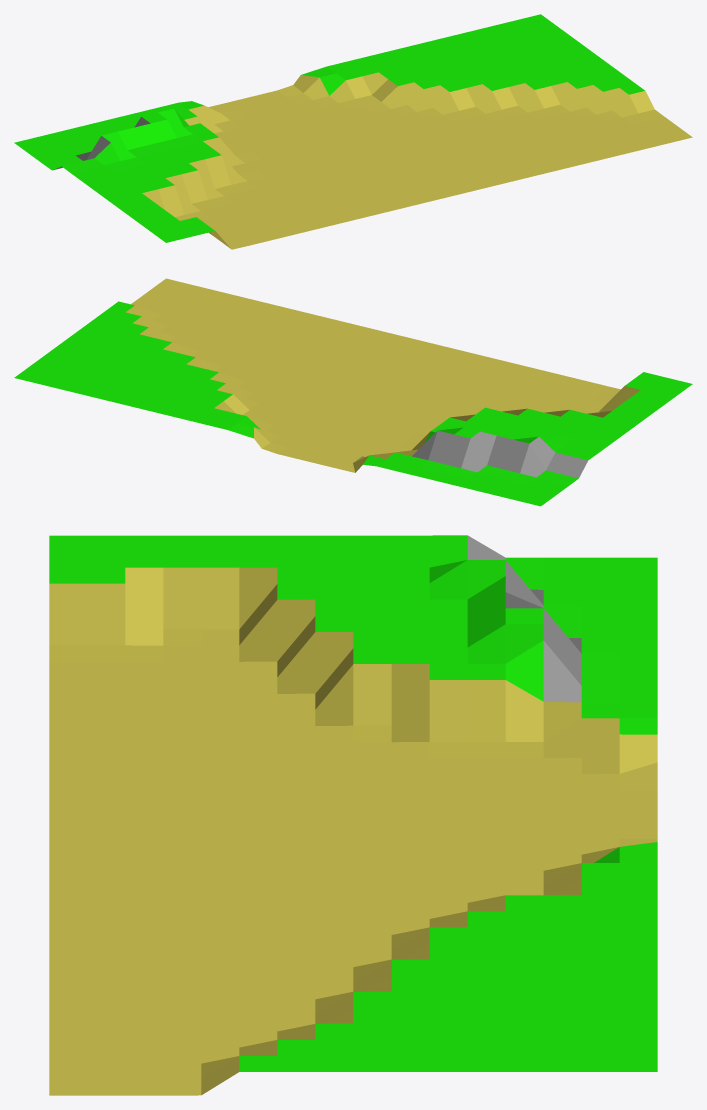
File: Terrain_Extension.fbx
The picture shows the model from 3 angles, top to bottom: view 1: azimuth 30°, elevation 25°; view 2: azimuth 150°, elevation 25°; view 3: azimuth 270°, elevation 25°; orthographic projection. The views are drawn at different scales.
Visible parts, largest first — view 1: Plane.002; view 2: Plane.002; view 3: Plane.002.
Boxes of the visible parts, x1,y1,x2,y2 form: Plane.002: (14,14,692,249); Plane.002: (14,278,692,506); Plane.002: (49,535,657,1095).
Size of the model in its own units: 2975 by 1487 by 188.
